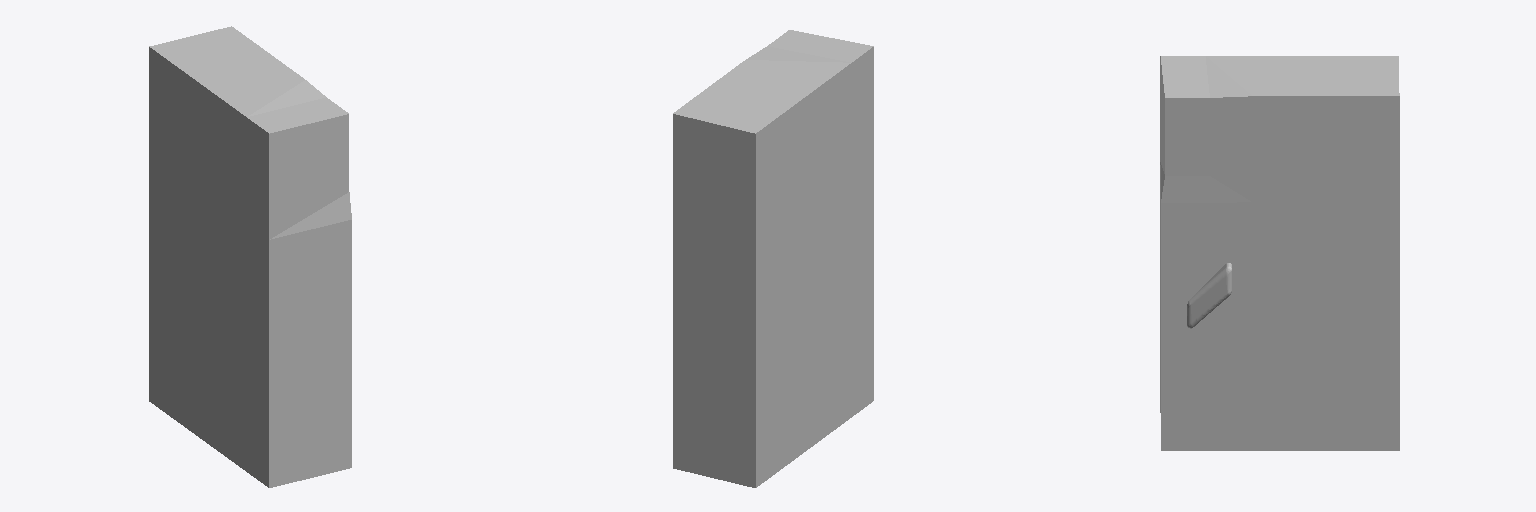
File: puertax3.obj
3 renders of one model, left to right at view 1: azimuth 30°, elevation 25°; view 2: azimuth 150°, elevation 25°; view 3: azimuth 270°, elevation 25°, orthographic.
Parts seen in each view (by area): view 1: pCube228; view 2: pCube228; view 3: pCube228.
Boxes of the visible parts, x1=… form: pCube228: x1=149, y1=26, x2=351, y2=487; pCube228: x1=673, y1=30, x2=873, y2=487; pCube228: x1=1160, y1=56, x2=1399, y2=450.
Bounding box in the file's own units: 68.7 × 246 × 150.